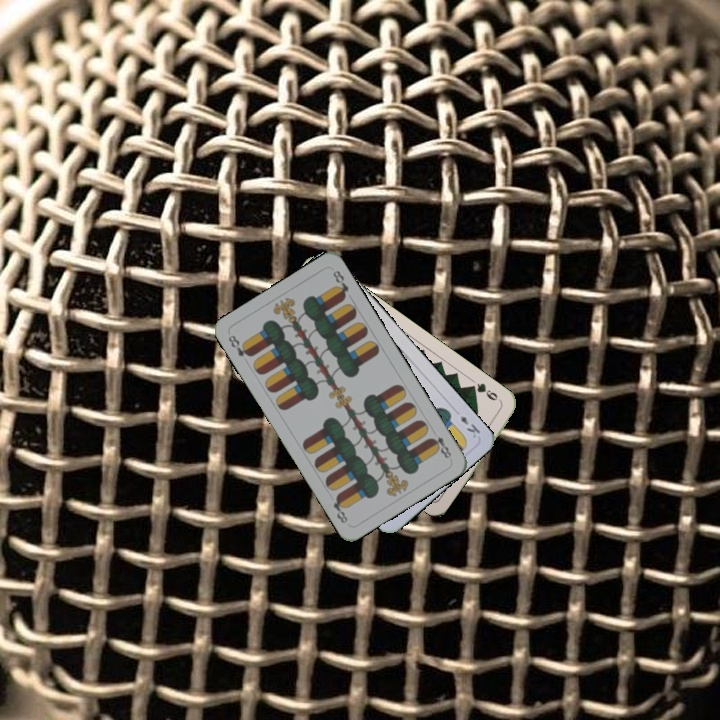E8: (224, 331, 255, 360), (426, 432, 454, 462)
EK: (456, 412, 483, 441)
G9: (466, 379, 504, 405)
